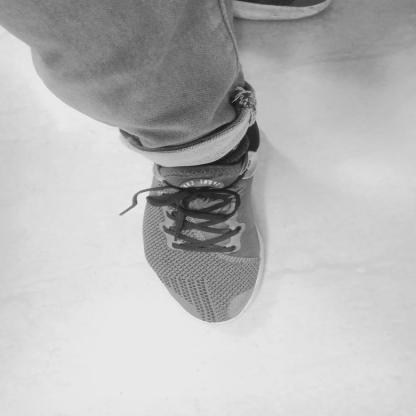ankle: (236, 162, 242, 170)
heel: (254, 146, 260, 152)
left_foot: (148, 130, 268, 320)
pinky: (163, 278, 168, 284)
toe: (241, 301, 244, 307)
